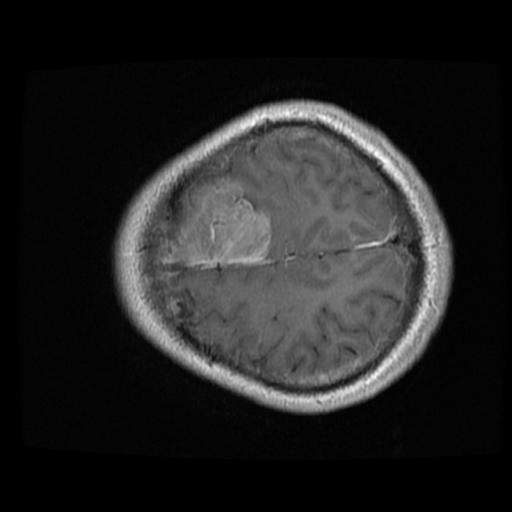meningioma: (160, 178, 269, 268)
